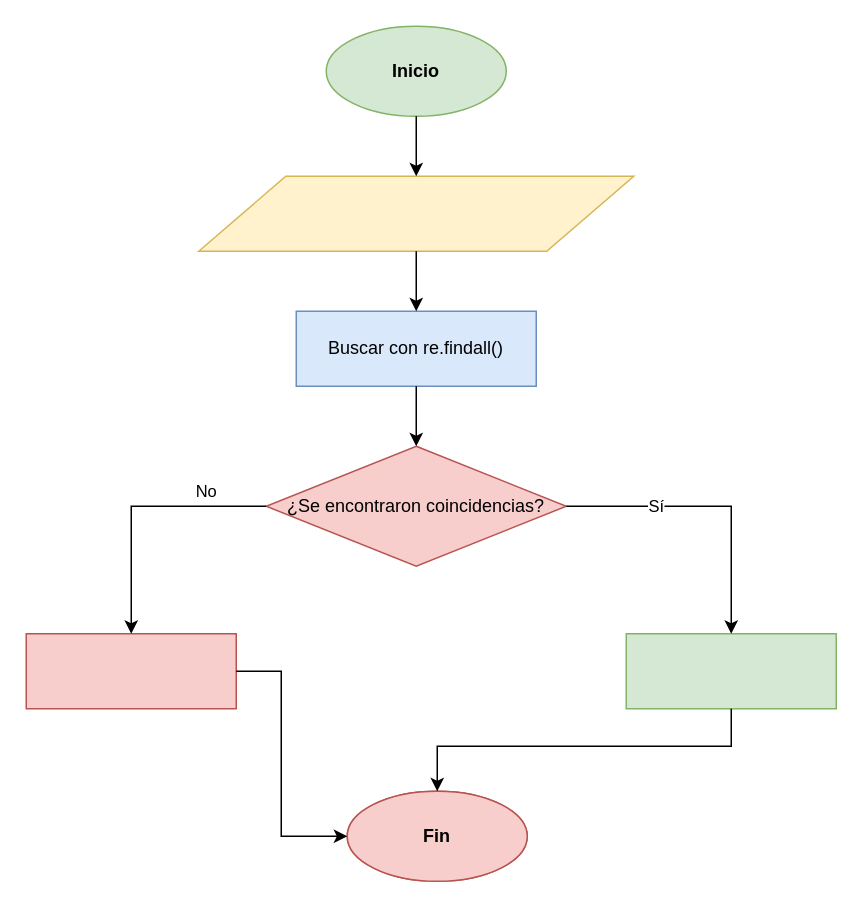
The diagram is 863 pixels wide and 908 high, and some of its shapes have lost their labels. Here are the shapes that lost their labels. From the top down, the centre of each, then its label:
[415,213]: Pedir patrón a buscar (ej. 'ERROR')
[130,670]: Mostrar mensaje de error
[730,670]: Mostrar total y 3 ejemplos
